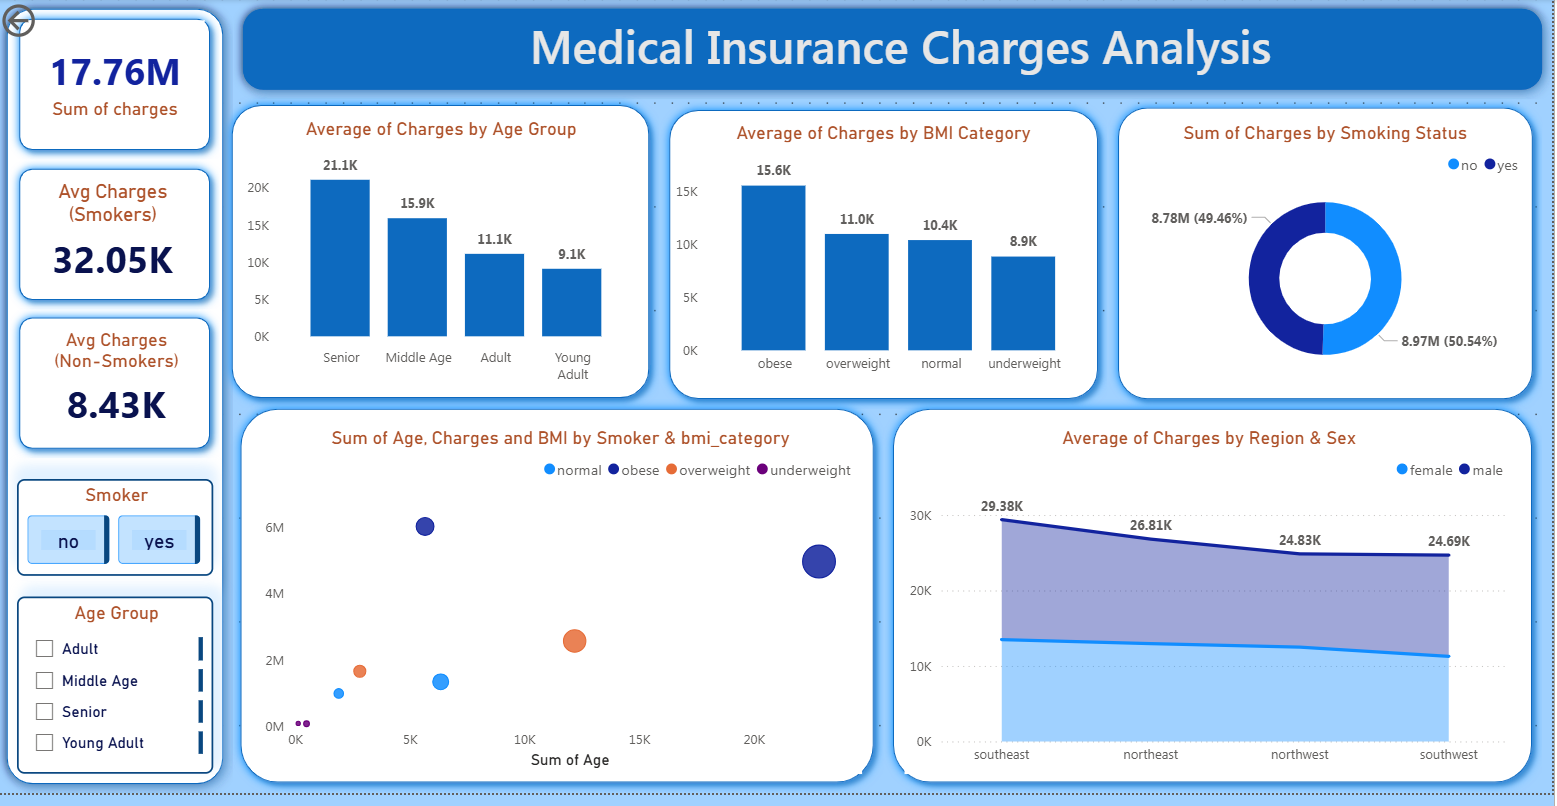

The page's visual inventory and layout, read from the dashboard file:
{"tool":"powerbi","page":{"name":"Page 1","canvas":[1439,735],"ordinal":0},"visuals":[{"type":"shape","box":[218.3,0,1220.1,92.9],"z":0},{"type":"textbox","box":[242.7,9.3,1186.7,69.3],"z":1000},{"type":"shape","box":[0,0,218.3,735.5],"z":2000},{"type":"shape","box":[613.1,93.4,414.7,285.4],"z":3000},{"type":"shape","box":[208.6,89.6,404.5,289.3],"z":4000},{"type":"clusteredColumnChart","title":"Average of Charges by Age Group","fields":{"Y":["Avg(cleaned_medical_data (1).charges)"],"Category":["cleaned_medical_data (1).age_group"]},"box":[226.6,110.1,368.6,253.4],"z":5000},{"type":"shape","box":[1027.8,90.9,401.9,288],"z":6000},{"type":"donutChart","title":"Sum of Charges by Smoking Status","fields":{"Category":["cleaned_medical_data (1).smoker"],"Y":["Sum(cleaned_medical_data (1).charges)"]},"box":[1040.6,113.9,376.3,241.9],"z":7000},{"type":"clusteredColumnChart","title":"Average of Charges by BMI Category","fields":{"Category":["cleaned_medical_data (1).bmi_category"],"Y":["Avg(cleaned_medical_data (1).charges)"]},"box":[623.4,113.9,394.2,241.9],"z":8000},{"type":"shape","box":[11.5,9,194.6,139.5],"z":9000},{"type":"shape","box":[11.5,148.5,194.6,139.5],"z":10000},{"type":"shape","box":[11.5,285.4,194.6,139.5],"z":11000},{"type":"card","fields":{"Values":["Sum(cleaned_medical_data (1).charges)"]},"box":[26.3,20.1,165.7,113],"z":12000},{"type":"actionButton","box":[0,0,100,40],"z":13000},{"type":"card","title":"Avg Charges (Smokers)","fields":{"Values":["Avg(medical.charges)"]},"box":[24.8,167.2,165.7,103.7],"z":14000},{"type":"card","title":"Avg Charges (Non-Smokers)","fields":{"Values":["Avg(medical.charges)"]},"box":[27.9,305,165.7,100.6],"z":15000},{"type":"shape","box":[216,370.7,604,364],"z":16000},{"type":"shape","box":[820,370.7,609.3,364],"z":17000},{"type":"scatterChart","title":"Sum of Age, Charges and  BMI by Smoker & bmi_category","fields":{"X":["Sum(medical.age)"],"Y":["Sum(medical.charges)"],"Category":["medical.smoker"],"Size":["Sum(medical.bmi)"],"Series":["medical.bmi_category"]},"box":[242.7,396,557.3,321.3],"z":18000},{"type":"stackedAreaChart","title":"Average of Charges by Region & Sex","fields":{"Category":["medical.region"],"Y":["Avg(medical.charges)"],"Series":["medical.sex"]},"box":[840,396,564,321.3],"z":19000},{"type":"advancedSlicerVisual","title":"Smoker","fields":{"Values":["medical.smoker"]},"box":[18.7,444,181.3,89.3],"z":20000},{"type":"slicer","title":"Age Group","fields":{"Values":["medical.age_group"]},"box":[18.7,553.3,181.3,164],"z":21000}]}

Visuals, with their boxes in screenshot pixels (x1, y1, x2, y2), scaled from the page's 1439x735 canvas onto the 1557x806 screenshot:
shape: rect(236, 0, 1556, 102)
textbox: rect(263, 10, 1547, 86)
shape: rect(0, 0, 236, 805)
shape: rect(663, 102, 1112, 415)
shape: rect(226, 98, 663, 416)
"Average of Charges by Age Group" clusteredColumnChart: rect(245, 121, 644, 399)
shape: rect(1112, 100, 1547, 416)
"Sum of Charges by Smoking Status" donutChart: rect(1126, 125, 1533, 390)
"Average of Charges by BMI Category" clusteredColumnChart: rect(675, 125, 1101, 390)
shape: rect(12, 10, 223, 163)
shape: rect(12, 163, 223, 316)
shape: rect(12, 313, 223, 466)
card - Sum(cleaned_medical_data (1).charges): rect(28, 22, 208, 146)
actionButton: rect(0, 0, 108, 44)
"Avg Charges (Smokers)" card: rect(27, 183, 206, 297)
"Avg Charges (Non-Smokers)" card: rect(30, 334, 209, 445)
shape: rect(234, 407, 887, 805)
shape: rect(887, 407, 1547, 805)
"Sum of Age, Charges and  BMI by Smoker & bmi_category" scatterChart: rect(263, 434, 866, 787)
"Average of Charges by Region & Sex" stackedAreaChart: rect(909, 434, 1519, 787)
"Smoker" advancedSlicerVisual: rect(20, 487, 216, 585)
"Age Group" slicer: rect(20, 607, 216, 787)
